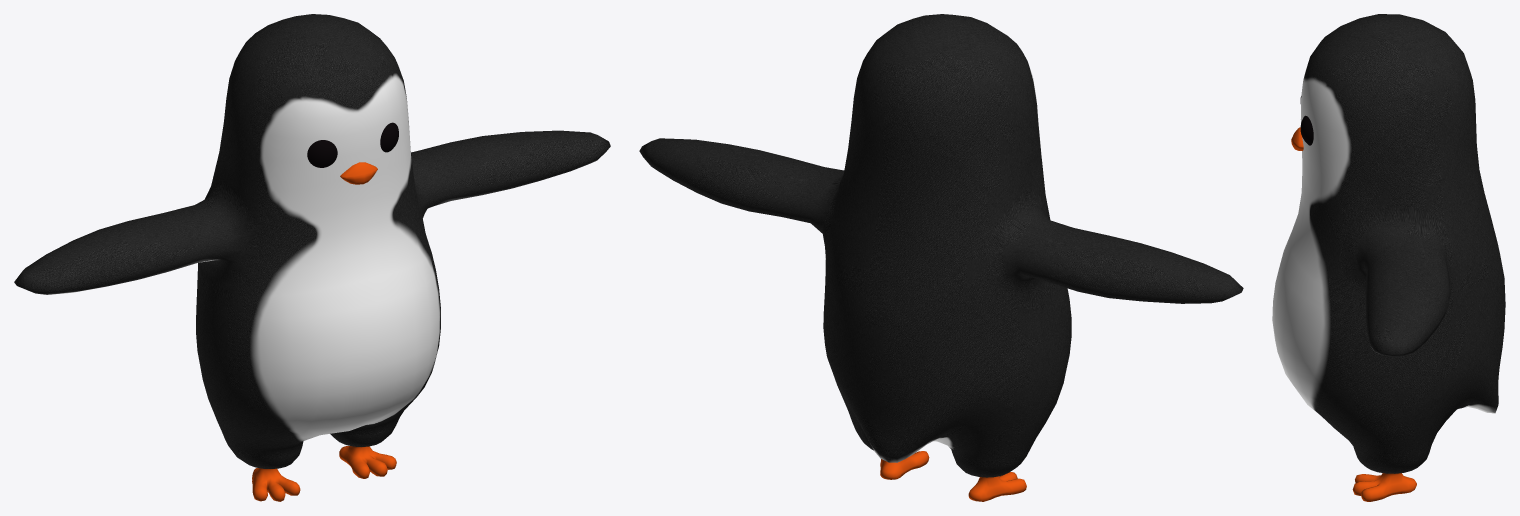
File: idle.fbx
The picture shows the model from 3 angles, left to right: view 1: azimuth 30°, elevation 25°; view 2: azimuth 150°, elevation 25°; view 3: azimuth 270°, elevation 25°; orthographic projection. The views are drawn at different scales.
Parts seen in each view (by area): view 1: Cube; view 2: Cube; view 3: Cube.
Boxes of the visible parts, x1,y1,x2,y2 form: Cube: (14, 14, 610, 501); Cube: (639, 14, 1243, 501); Cube: (1272, 14, 1505, 501).
Bounding box in the file's own units: 3.78 × 2.77 × 1.31.
